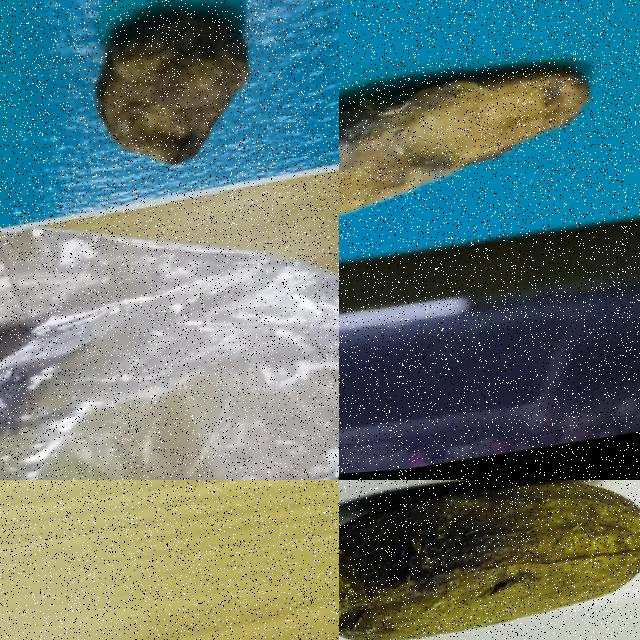Fine_cocoabeans: (339, 480, 639, 639)
Flat_cocoabeans: (339, 6, 639, 276), (19, 0, 335, 218)
